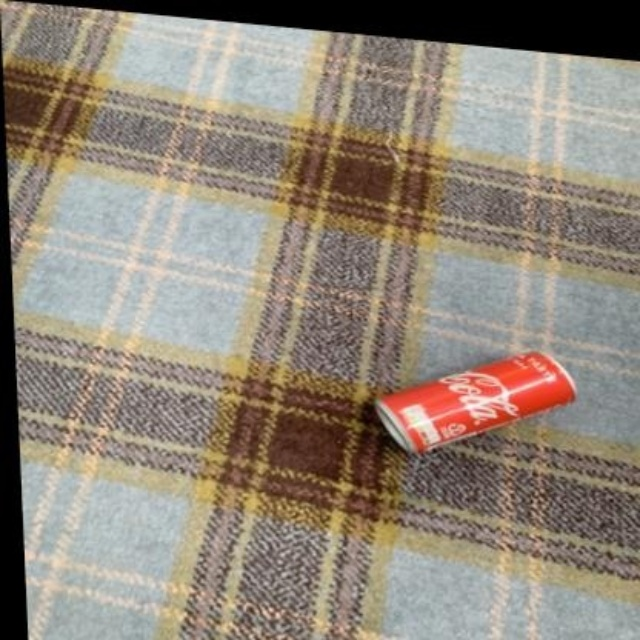trash: (375, 352, 575, 452)
